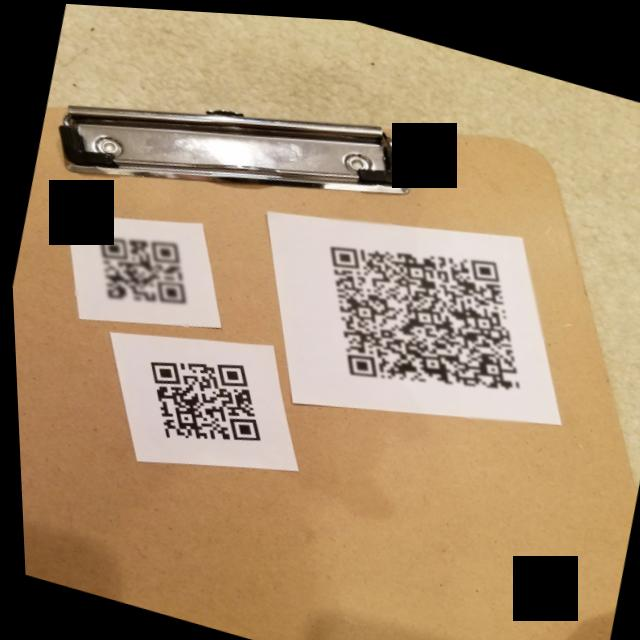QR_CODE: (290, 200, 560, 430), (107, 324, 285, 473), (68, 210, 205, 326)
